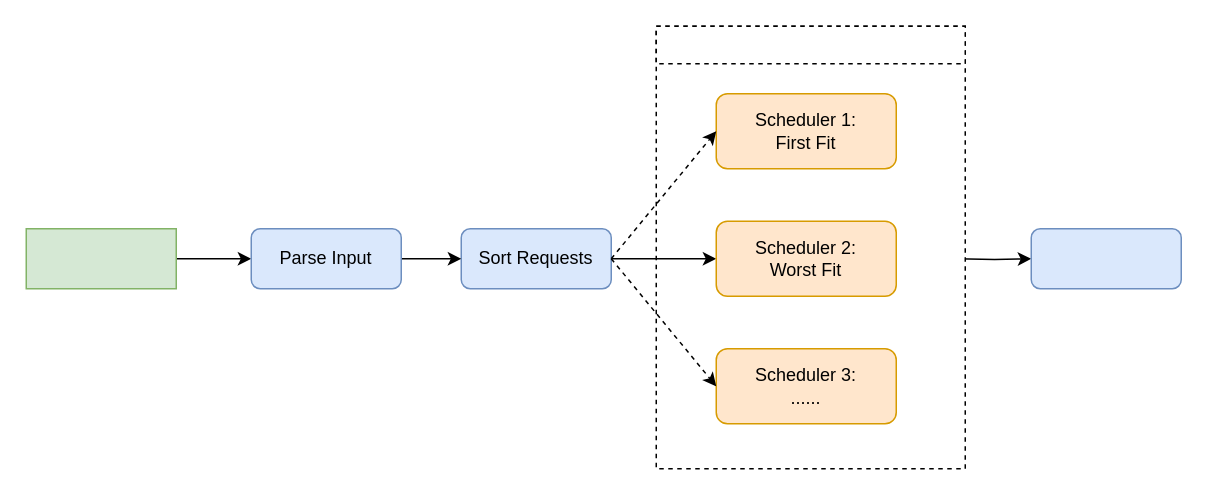
This 1208x495 diagram has some shape labels left out. The centre of each missing label's shape, as x and y in pixels:
Choose a scheduler: (x=810, y=44)
Input file_path: (x=100, y=258)
Output Result: (x=1105, y=258)
